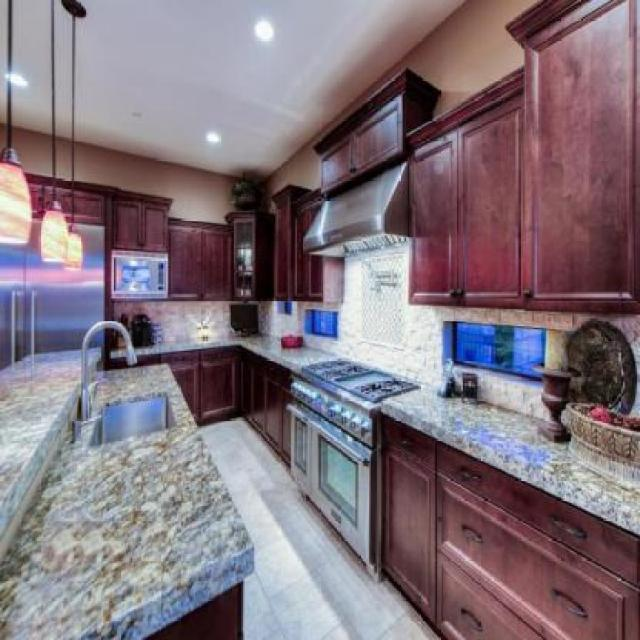Floor: (197, 414, 446, 638)
